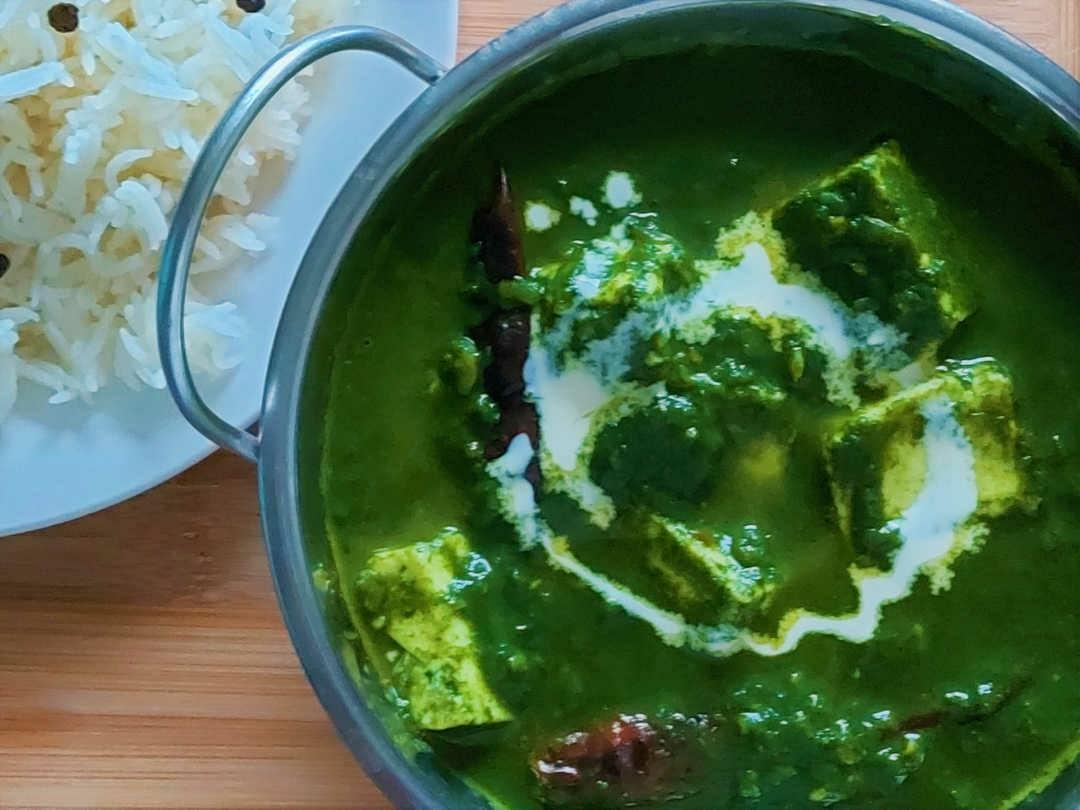PalakPaneer: (326, 41, 1080, 810)
